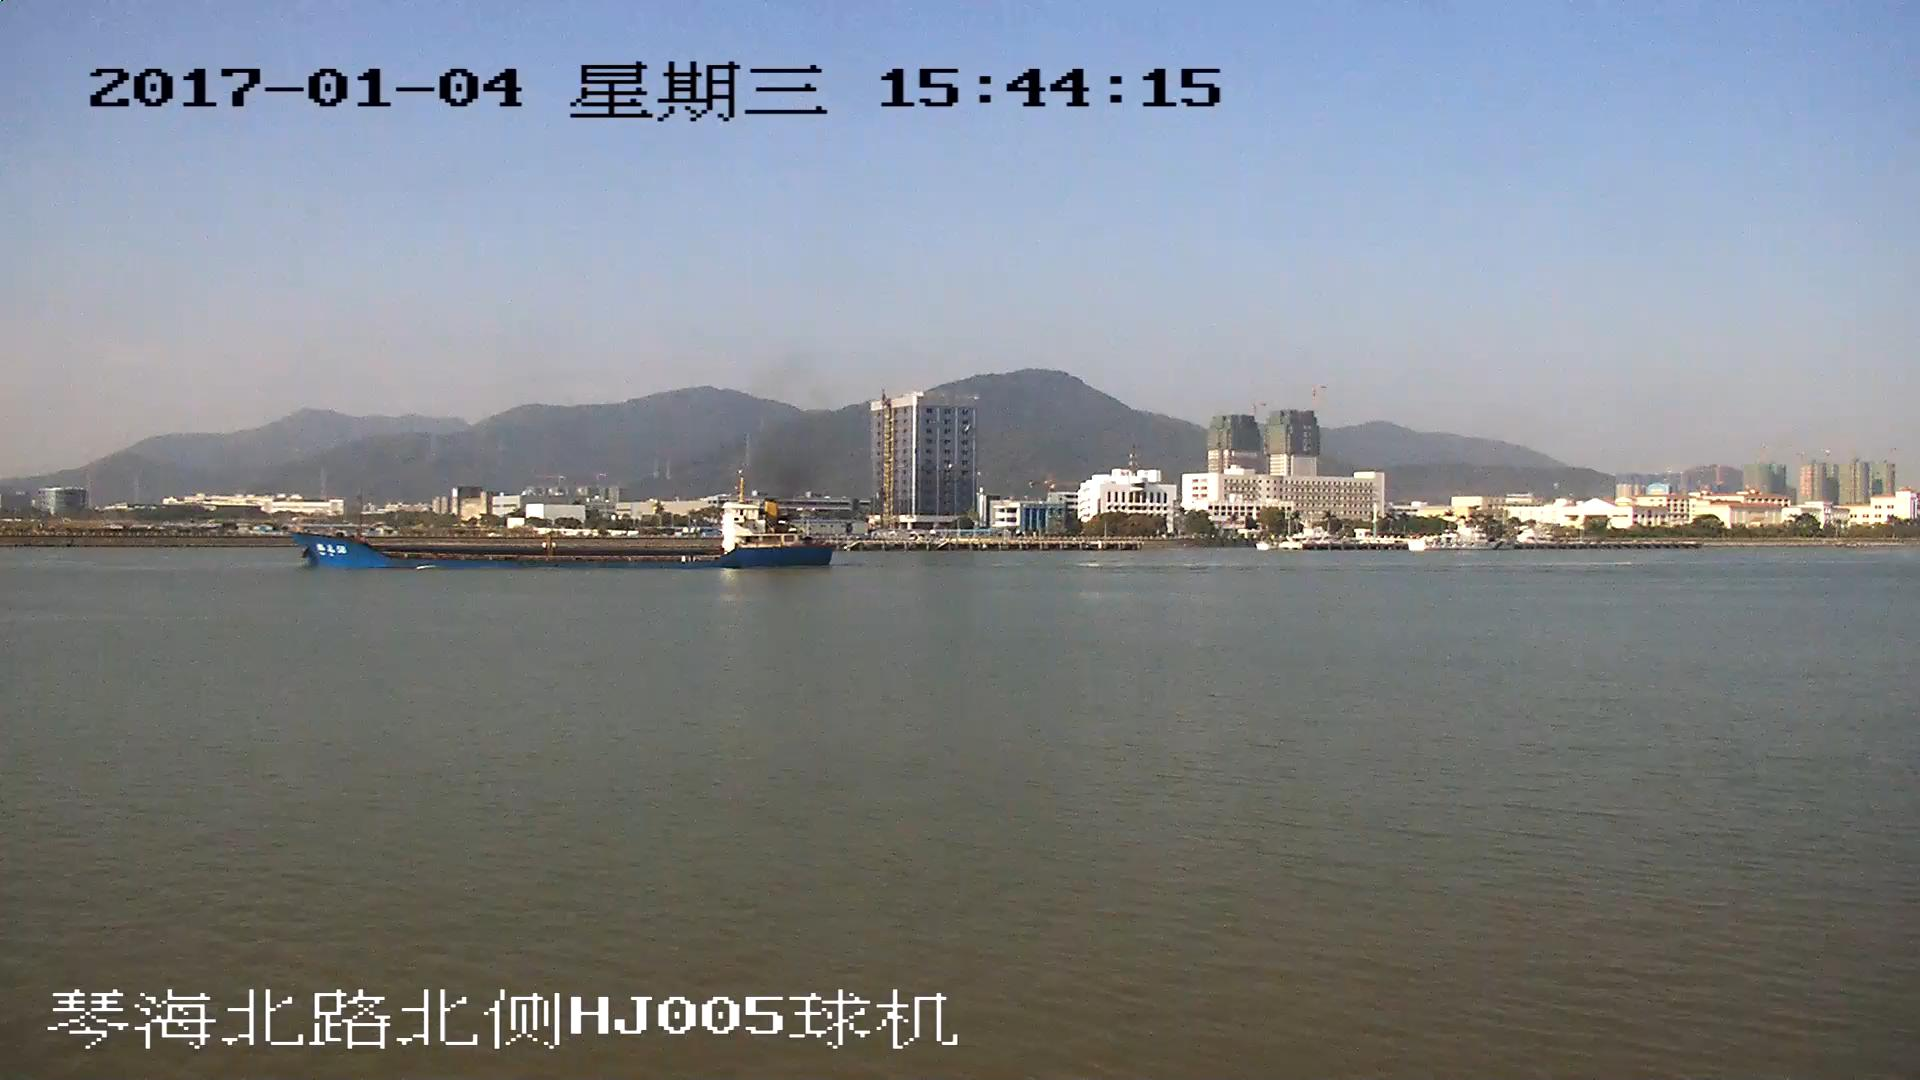general cargo ship: (296, 474, 835, 569)
